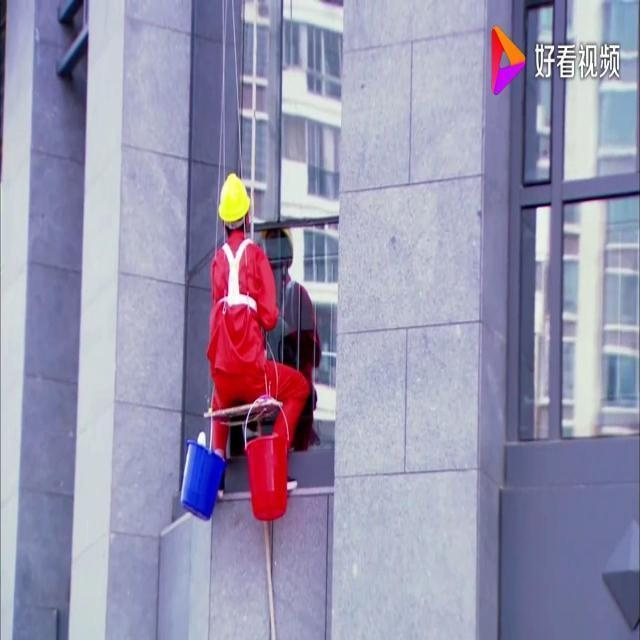Arnes_seguridad: (213, 233, 260, 323)
